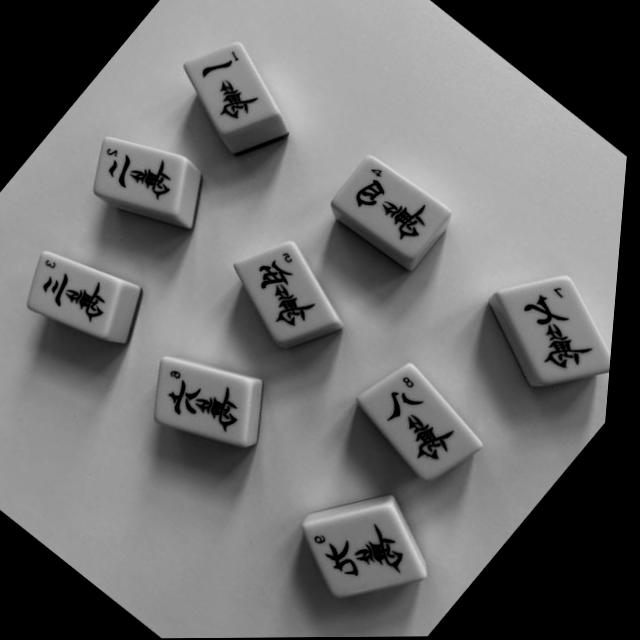sc1: (183, 41, 284, 137)
sc2: (97, 135, 189, 216)
sc3: (32, 248, 127, 339)
sc4: (333, 153, 456, 262)
sc5: (237, 240, 344, 345)
sc6: (161, 355, 259, 447)
sc7: (502, 275, 617, 386)
sc8: (362, 361, 493, 483)
sc9: (311, 504, 439, 600)
